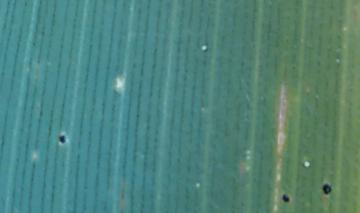tarspot: (320, 182, 334, 196), (56, 131, 67, 145), (280, 192, 291, 204)
